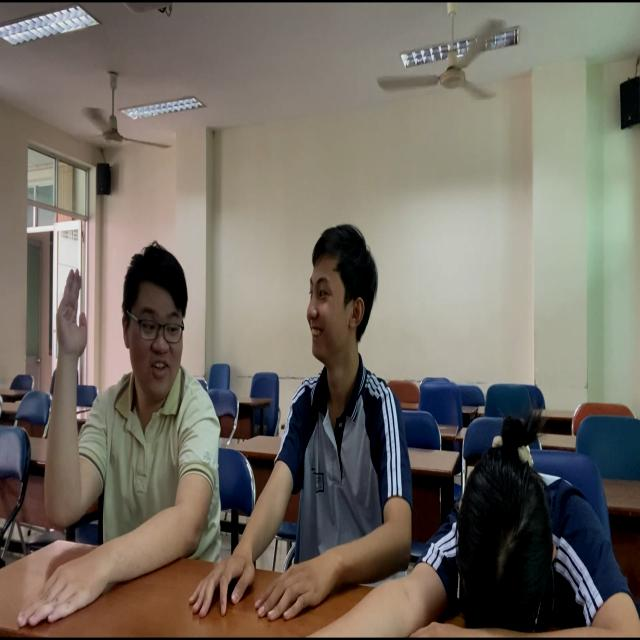raise_hand: (35, 231, 219, 561)
sleep: (390, 415, 640, 640)
